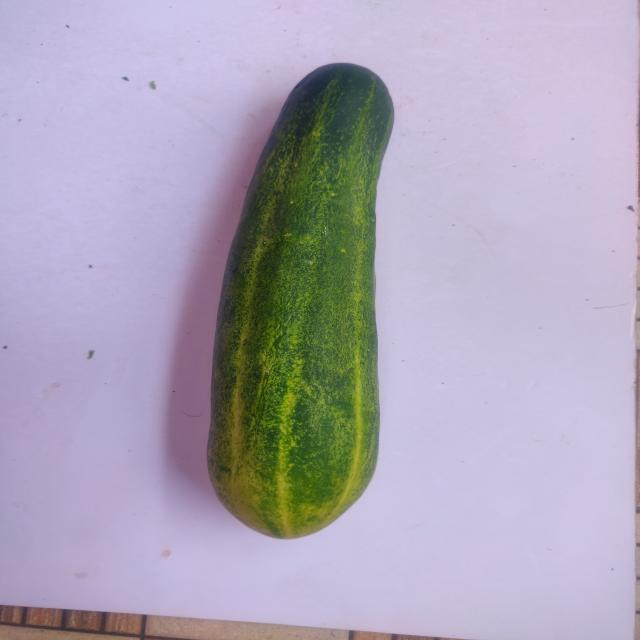Cucumber: (176, 53, 453, 571)
